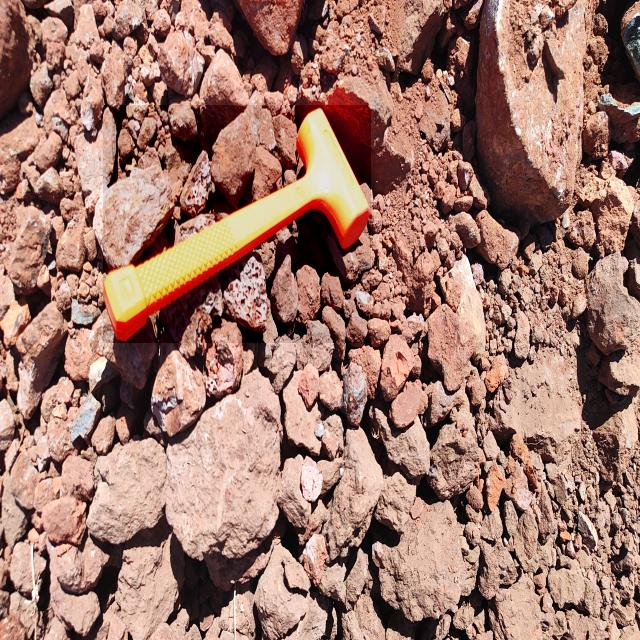Orange_hammer: (104, 105, 372, 343)
